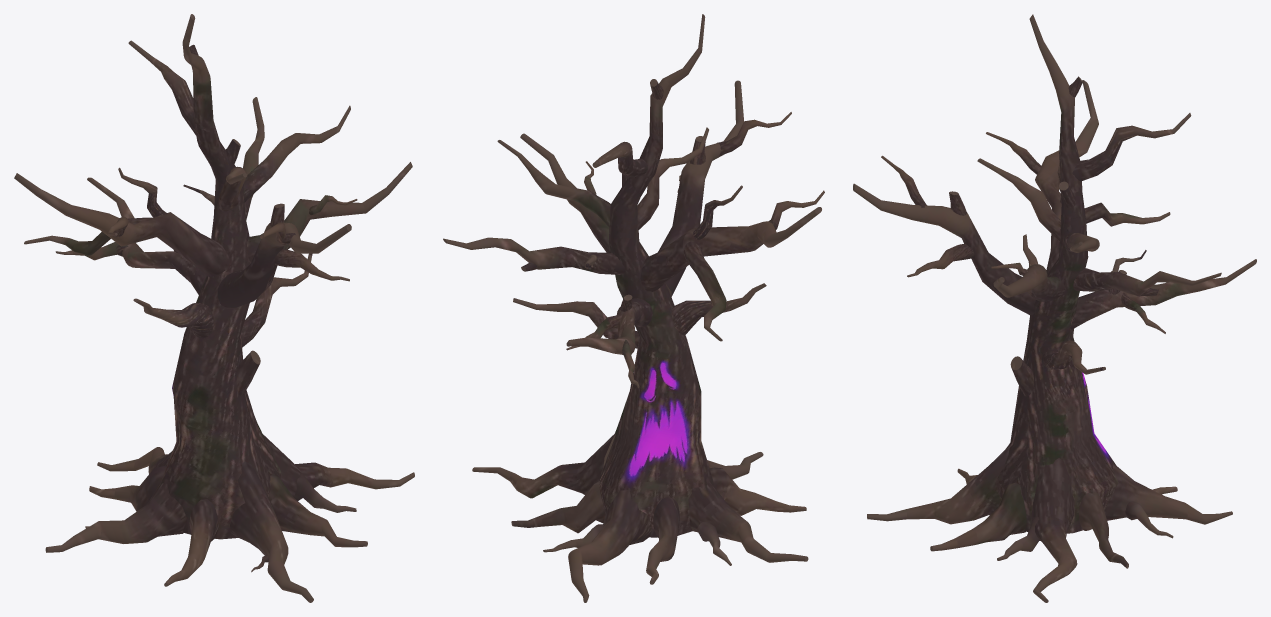
File: tree.glb
The picture shows the model from 3 angles, left to right: view 1: azimuth 30°, elevation 25°; view 2: azimuth 150°, elevation 25°; view 3: azimuth 270°, elevation 25°; orthographic projection. The views are drawn at different scales.
Parts seen in each view (by area): view 1: group31_pasted__group28_pasted__pasted__group19_pasted__past; view 2: group31_pasted__group28_pasted__pasted__group19_pasted__past; view 3: group31_pasted__group28_pasted__pasted__group19_pasted__past.
Boxes of the visible parts, x1,y1,x2,y2 form: group31_pasted__group28_pasted__pasted__group19_pasted__past: [14, 14, 414, 602]; group31_pasted__group28_pasted__pasted__group19_pasted__past: [443, 14, 824, 602]; group31_pasted__group28_pasted__pasted__group19_pasted__past: [853, 14, 1256, 602].
Size of the model in its own units: 0.4294 by 0.5781 by 0.4267.
1 material, 1 textured.
